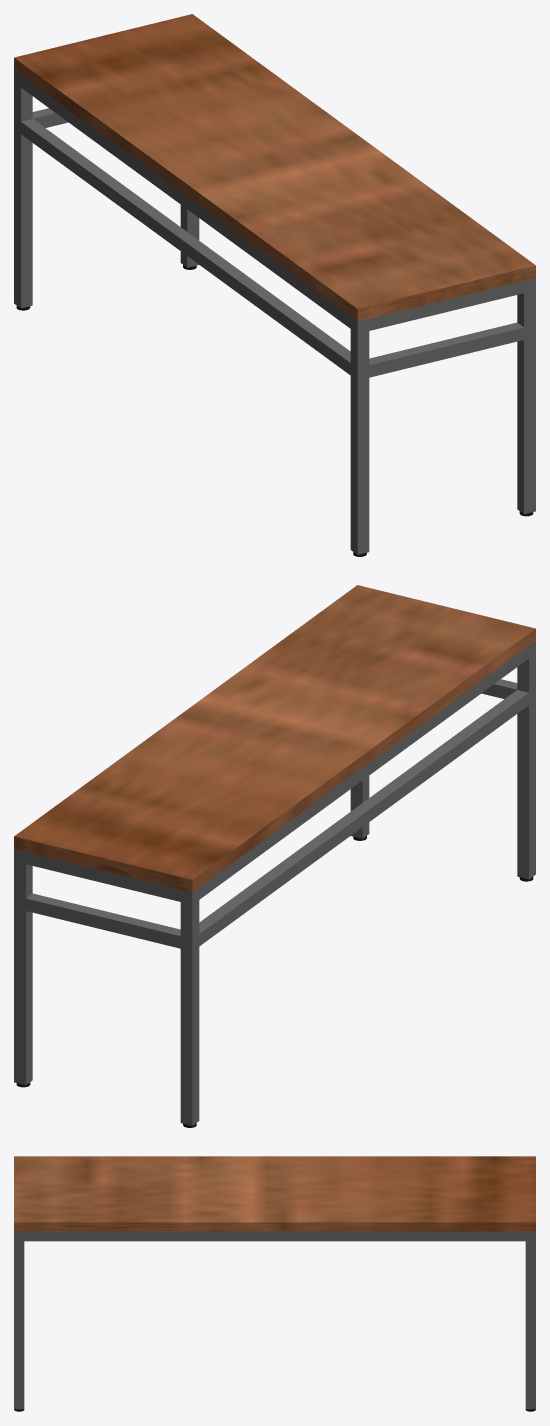
File: Computer_Table_1.fbx
3 renders of one model, top to bottom at view 1: azimuth 30°, elevation 25°; view 2: azimuth 150°, elevation 25°; view 3: azimuth 270°, elevation 25°, orthographic. The views are drawn at different scales.
Parts seen in each view (by area): view 1: Table Top, frame; view 2: Table Top, frame; view 3: Table Top, frame.
Boxes of the visible parts, x1=… form: Table Top: x1=14, y1=14, x2=535, y2=321; frame: x1=14, y1=70, x2=535, y2=554; Table Top: x1=14, y1=585, x2=535, y2=892; frame: x1=14, y1=641, x2=535, y2=1125; Table Top: x1=14, y1=1156, x2=535, y2=1231; frame: x1=14, y1=1232, x2=535, y2=1409.
Size of the model in its own units: 60 by 80 by 200.
Materials: 3 (3 with a texture image).
